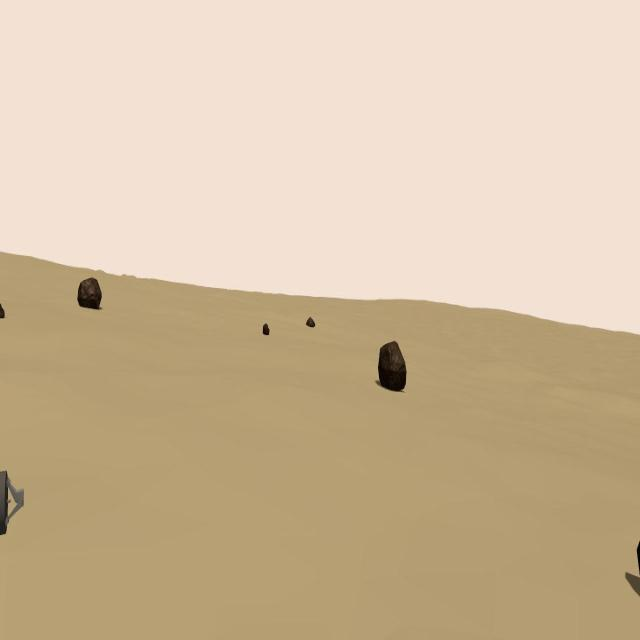rock: (378, 342, 406, 391), (78, 277, 101, 309), (262, 324, 269, 335), (307, 317, 314, 327), (0, 303, 4, 317)
